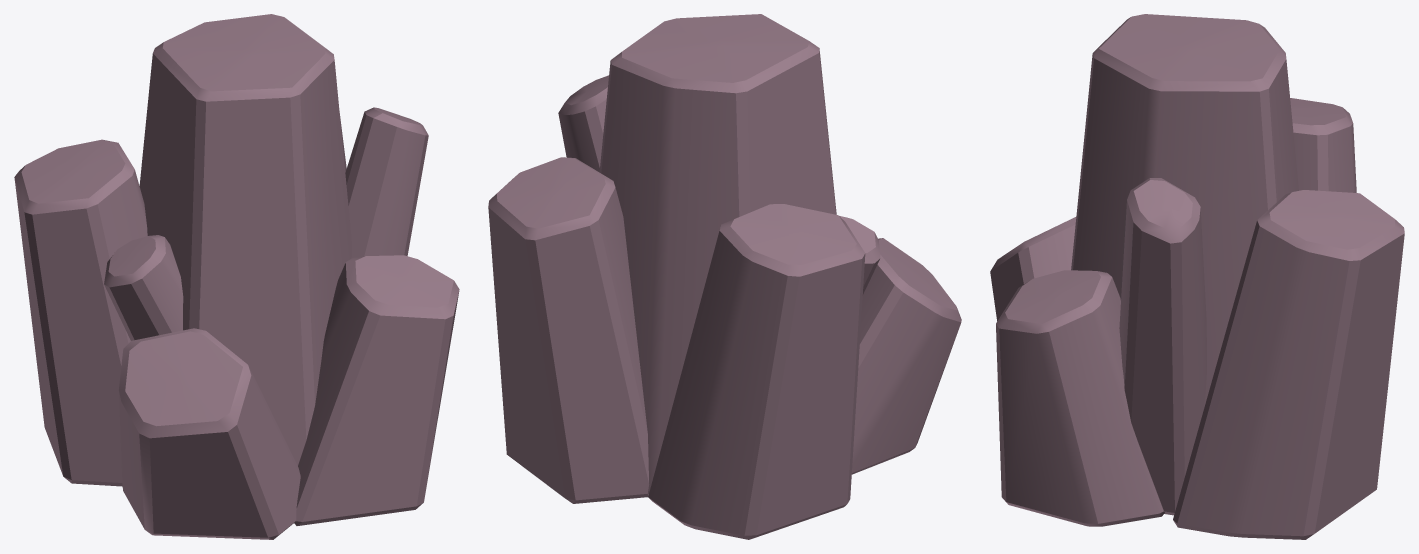
Rendered from crystal_big.glb.
The picture shows the model from 3 angles, left to right: view 1: azimuth 30°, elevation 25°; view 2: azimuth 150°, elevation 25°; view 3: azimuth 270°, elevation 25°; orthographic projection. The views are drawn at different scales.
Visible parts, largest first — view 1: Crystal_Big; view 2: Crystal_Big; view 3: Crystal_Big.
Part boxes in pixels (left/top/right/bottom): Crystal_Big: left=14, top=14, right=459, bottom=539; Crystal_Big: left=488, top=14, right=961, bottom=539; Crystal_Big: left=990, top=14, right=1404, bottom=539.
Bounding box in the file's own units: 1.48 × 1.65 × 1.48.
Materials: 1 (1 with a texture image).
